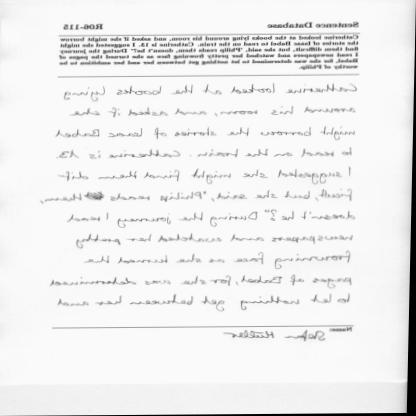Handwritten text: (61, 78, 372, 101), (39, 186, 360, 208), (44, 119, 364, 141), (47, 293, 365, 315), (71, 228, 356, 252), (35, 272, 360, 292), (51, 142, 365, 162), (59, 164, 363, 184), (56, 207, 364, 226), (69, 103, 360, 121), (75, 251, 360, 269)
